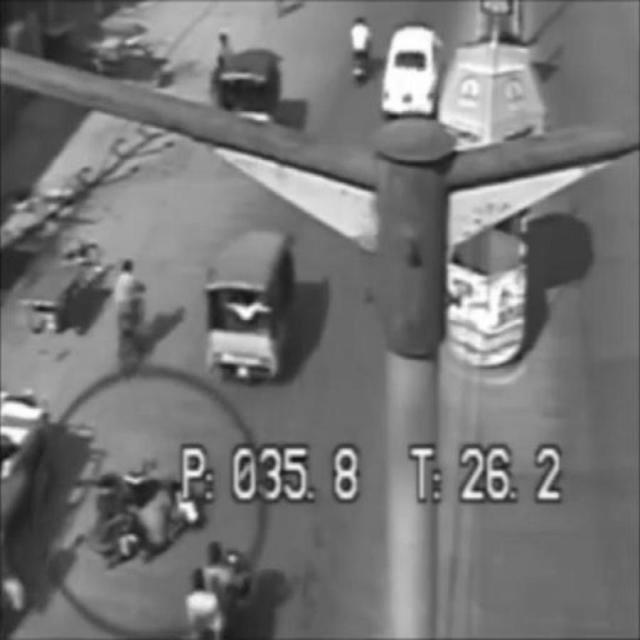vehicle: (203, 224, 299, 382), (92, 463, 205, 564), (382, 21, 442, 121), (111, 256, 151, 374), (348, 16, 370, 90)
